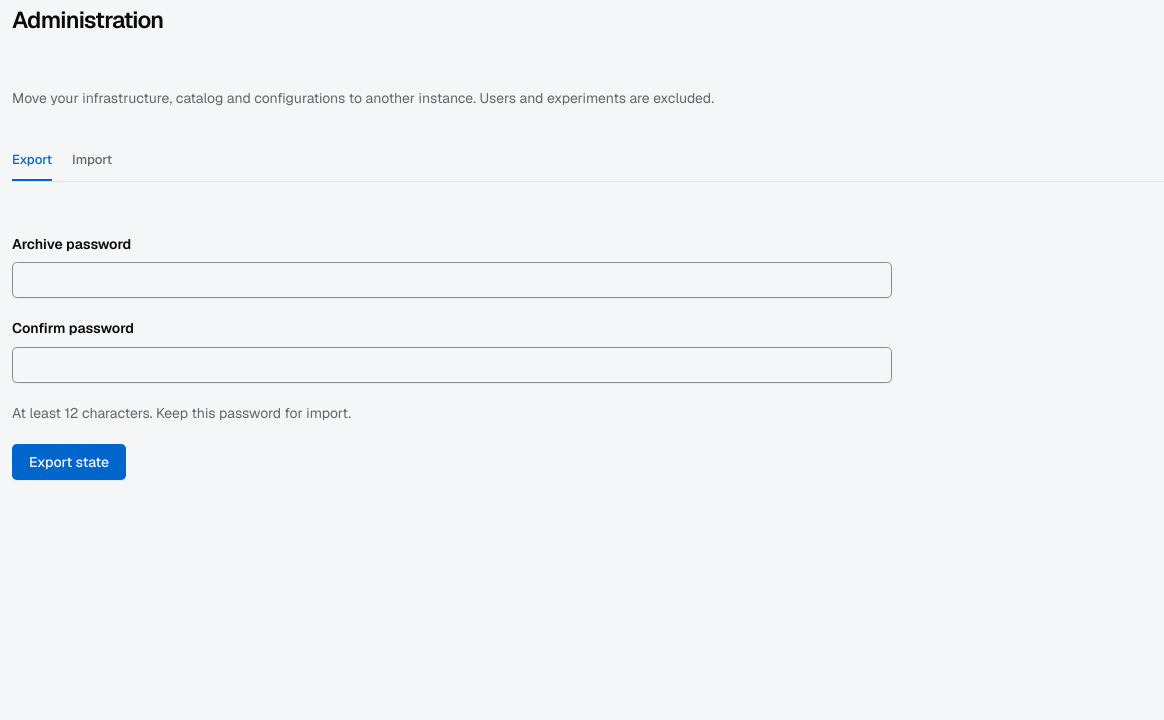
Scenario: instance state transfer › requires matching export passwords without sending them to the API on mismatch
Step 1. Type "archive-password" into the password field labelled "Archive password" → (452, 280), box top-left (12, 262), bottom-right (892, 298)
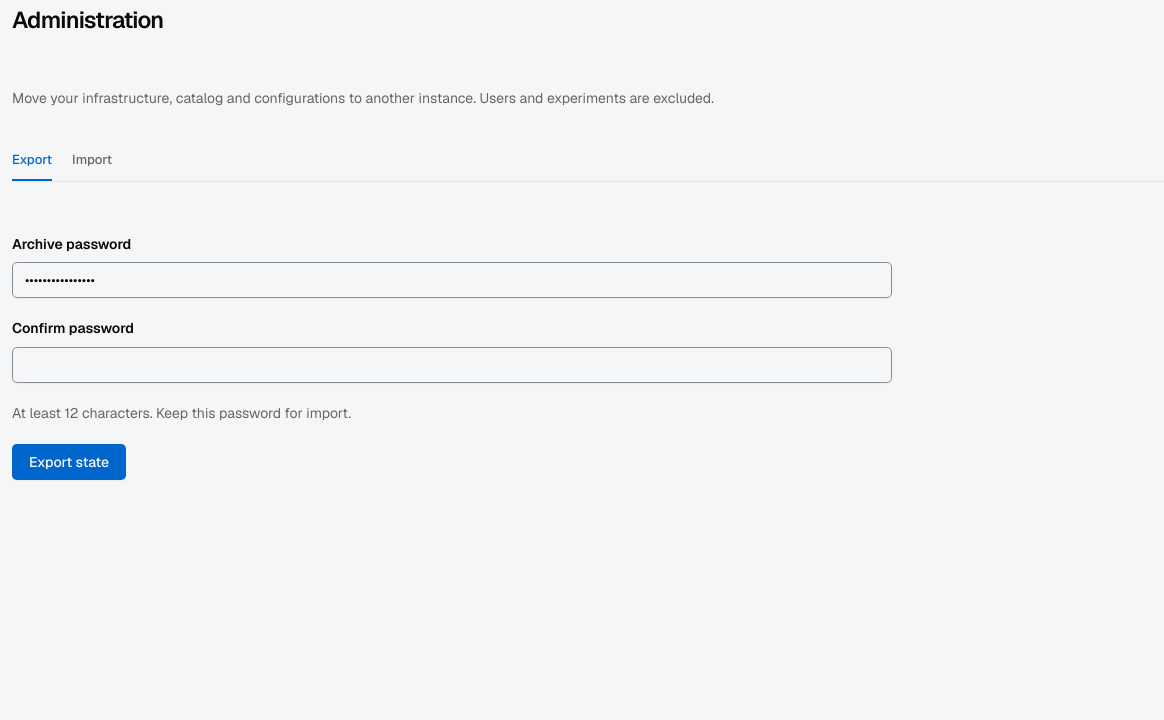
Step 2. Type "other-password" into the password field labelled "Confirm password" → (452, 365), box top-left (12, 347), bottom-right (892, 383)
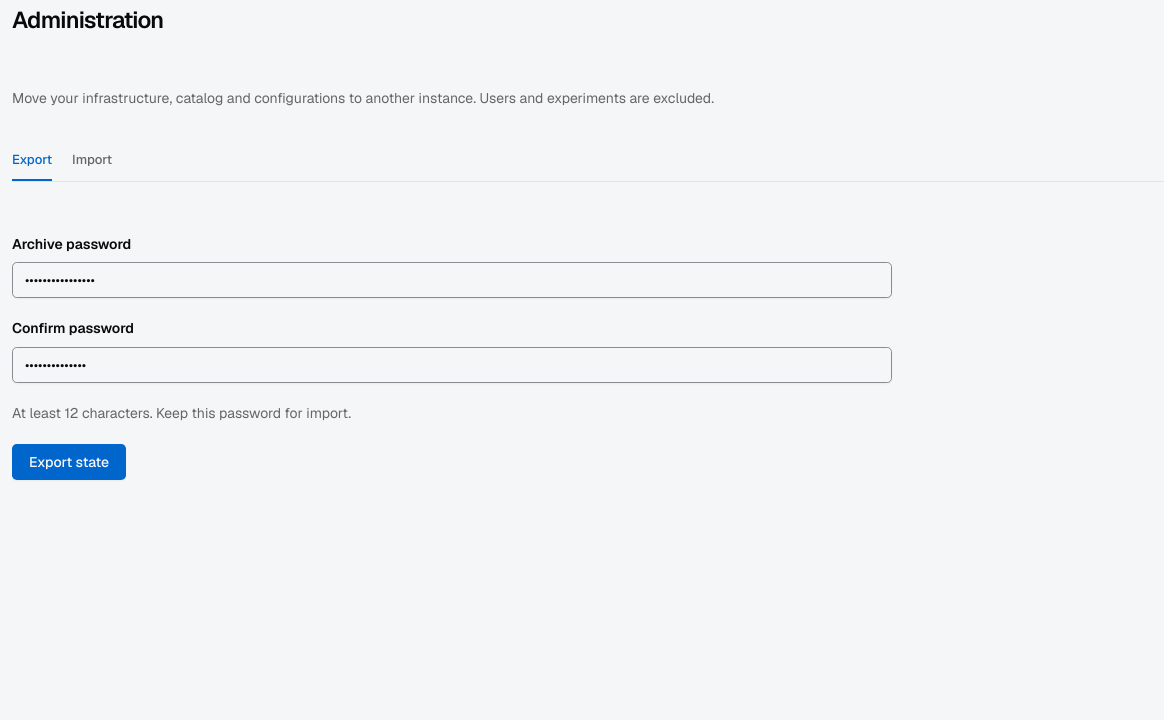
Step 3. Click the button "Export state" → (69, 462), box top-left (12, 444), bottom-right (126, 480)
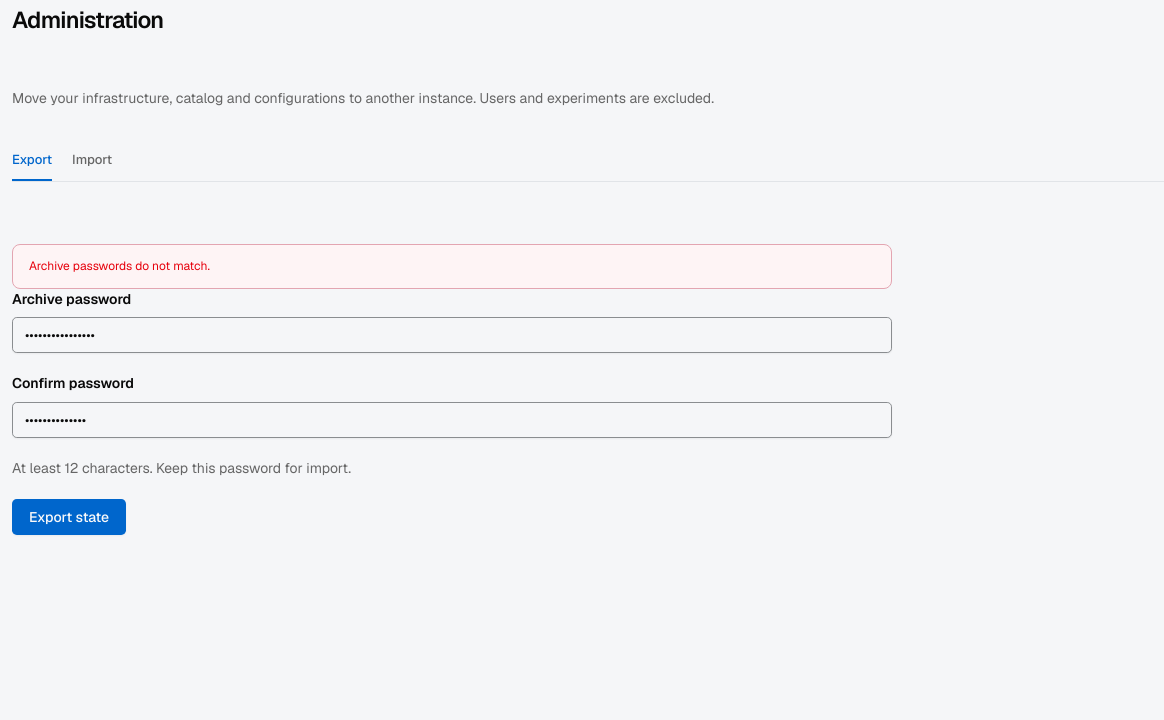
Check: the message reads "Archive passwords do not match.", box top-left (29, 258), bottom-right (210, 274)
